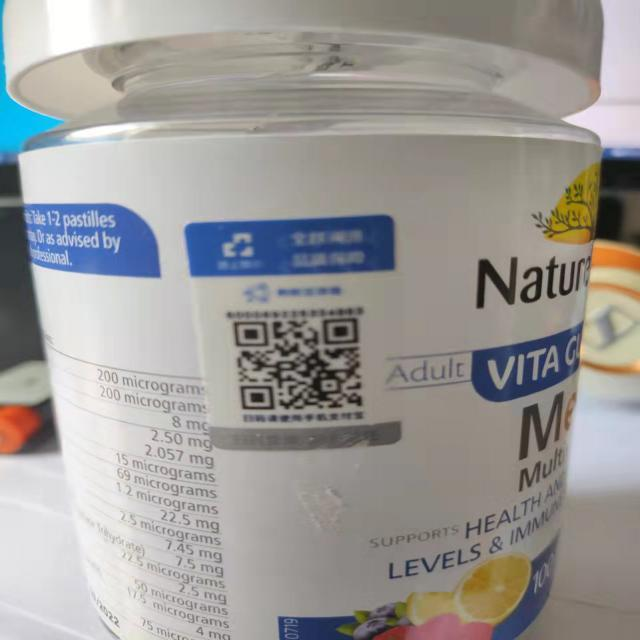qr_code: (230, 320, 368, 410)
